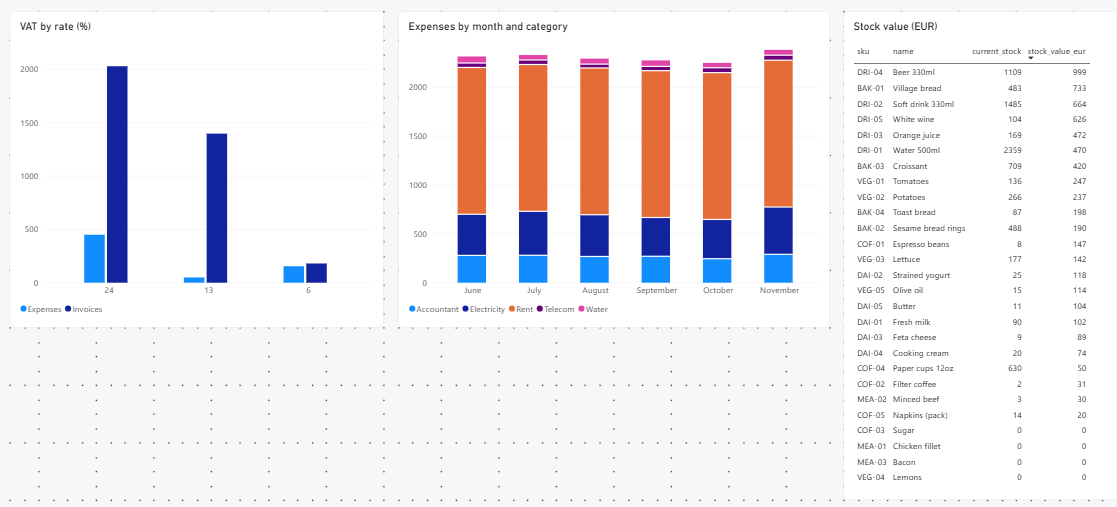

Layout of this report page (visuals, bound fields, positions):
{"tool":"powerbi","page":{"name":"VAT & Stock","canvas":[1920,1080],"ordinal":1},"visuals":[{"type":"clusteredColumnChart","title":"VAT by rate (%)","fields":{"Category":["vat_by_rate.vat_rate_pct"],"Series":["vat_by_rate.source"],"Y":["Sum(vat_by_rate.vat_eur)"]},"box":[48,144,624,528],"z":0},{"type":"columnChart","title":"Expenses by month and category","fields":{"Category":["expenses.expense_date.Variation.Date Hierarchy.Month"],"Series":["expenses.category"],"Y":["Sum(expenses.net_eur)"]},"box":[696,144,720,528],"z":1},{"type":"tableEx","title":"Stock value (EUR)","fields":{"Values":["stock_value.sku","stock_value.name","stock_value.current_stock","stock_value.stock_value_eur"]},"box":[1440,144,456,816],"z":2}]}

Visuals, with their boxes on the page's 1920x1080 design canvas (x1, y1, x2, y2). These are canvas units, not pixel positions in the 1117x507 screenshot, which may show the page scaled, cropped or inside an application window:
"VAT by rate (%)" clusteredColumnChart: {"x1": 48, "y1": 144, "x2": 672, "y2": 672}
"Expenses by month and category" columnChart: {"x1": 696, "y1": 144, "x2": 1416, "y2": 672}
"Stock value (EUR)" tableEx: {"x1": 1440, "y1": 144, "x2": 1896, "y2": 960}
